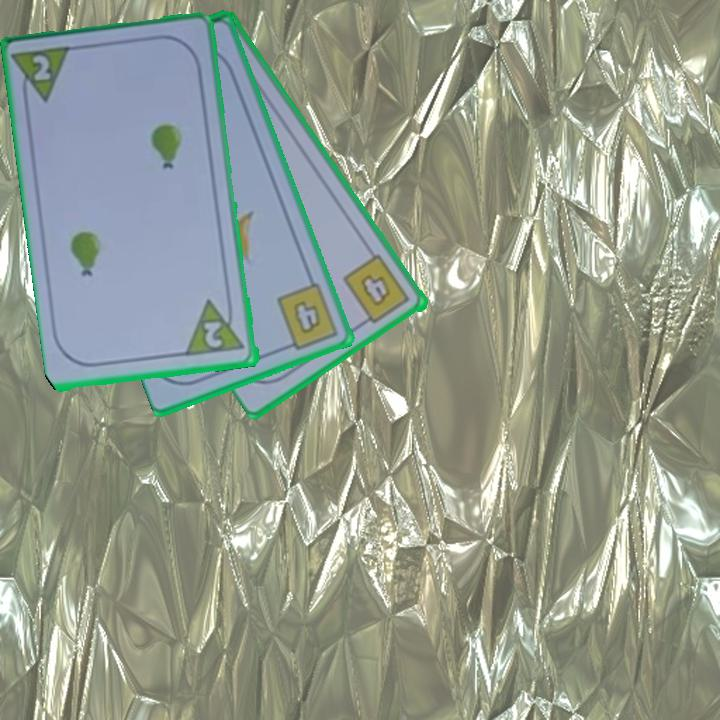2p: (11, 43, 76, 110), (184, 295, 249, 360)
4b: (340, 251, 414, 330), (273, 279, 342, 354)
